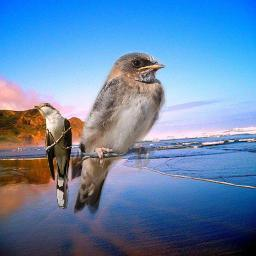Cuckoo: (33, 103, 73, 209)
Swallow: (62, 50, 167, 215)
